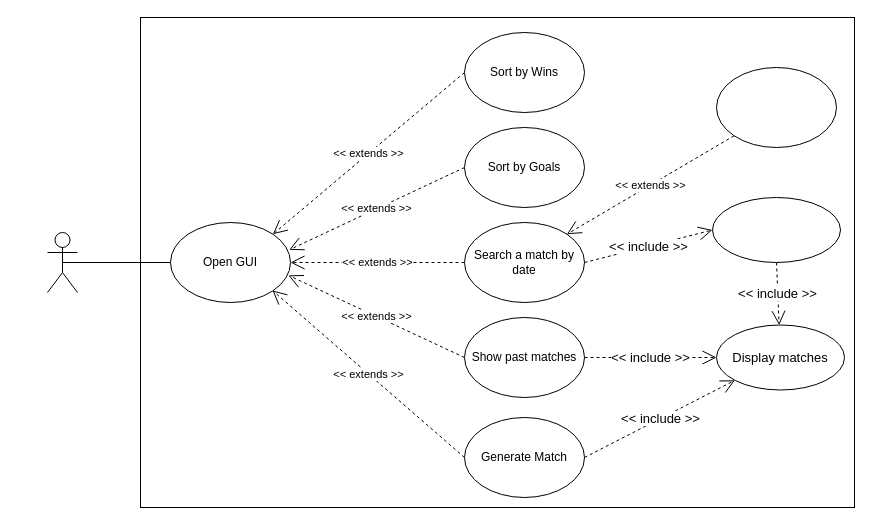
Image size: 872x525. Some labels were removed from this diagram. Each missing label, with the box of its shape:
Display error message: (716, 66, 836, 148)
League Manager: (46, 232, 78, 292)
Verify Date: (712, 196, 840, 262)
